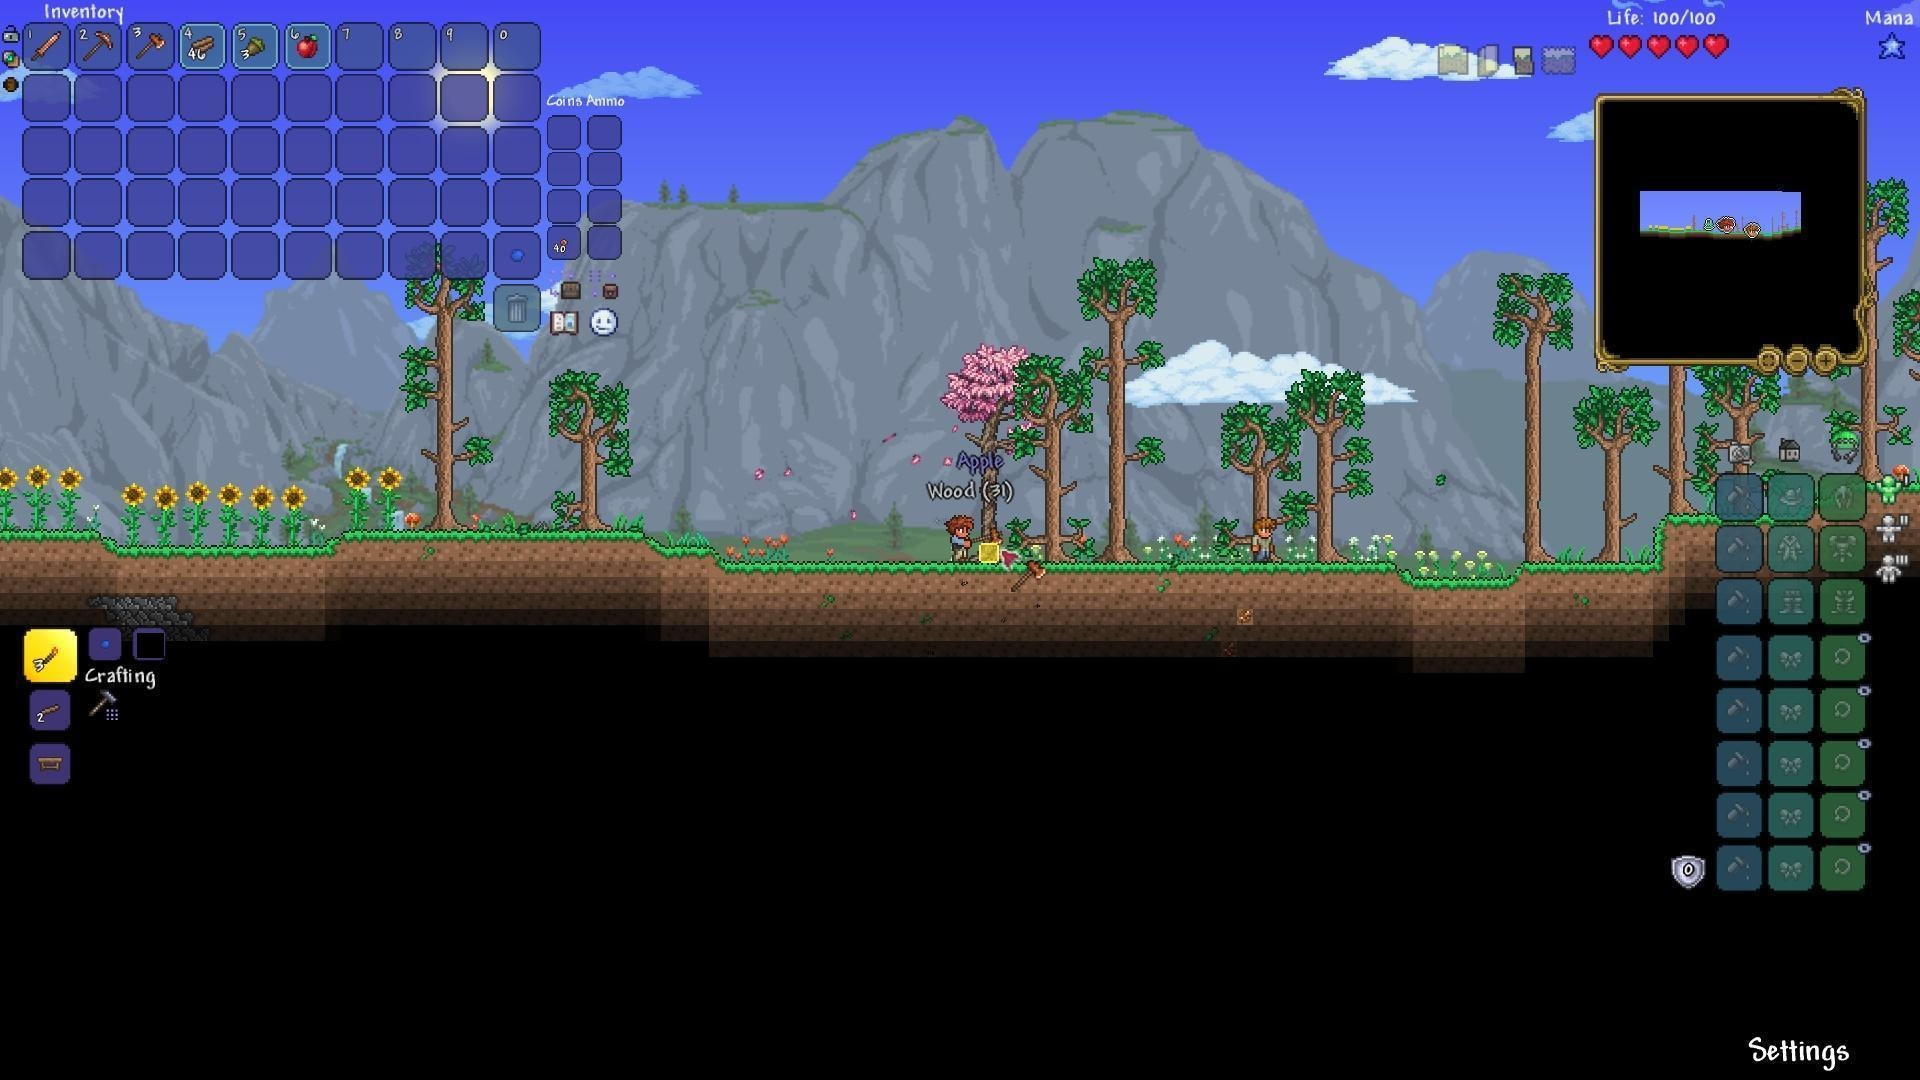wood: (189, 34, 215, 59)
workbench: (32, 750, 69, 775)
